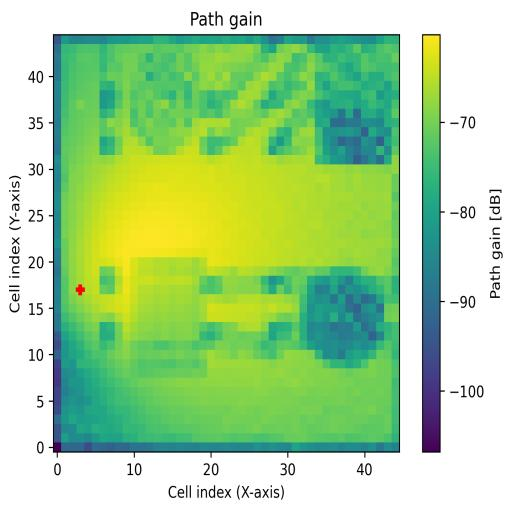Concrete: (314, 53, 392, 164)
Glass: (129, 54, 199, 155)
Metal: (300, 266, 384, 369)
Wood: (130, 256, 207, 376)
